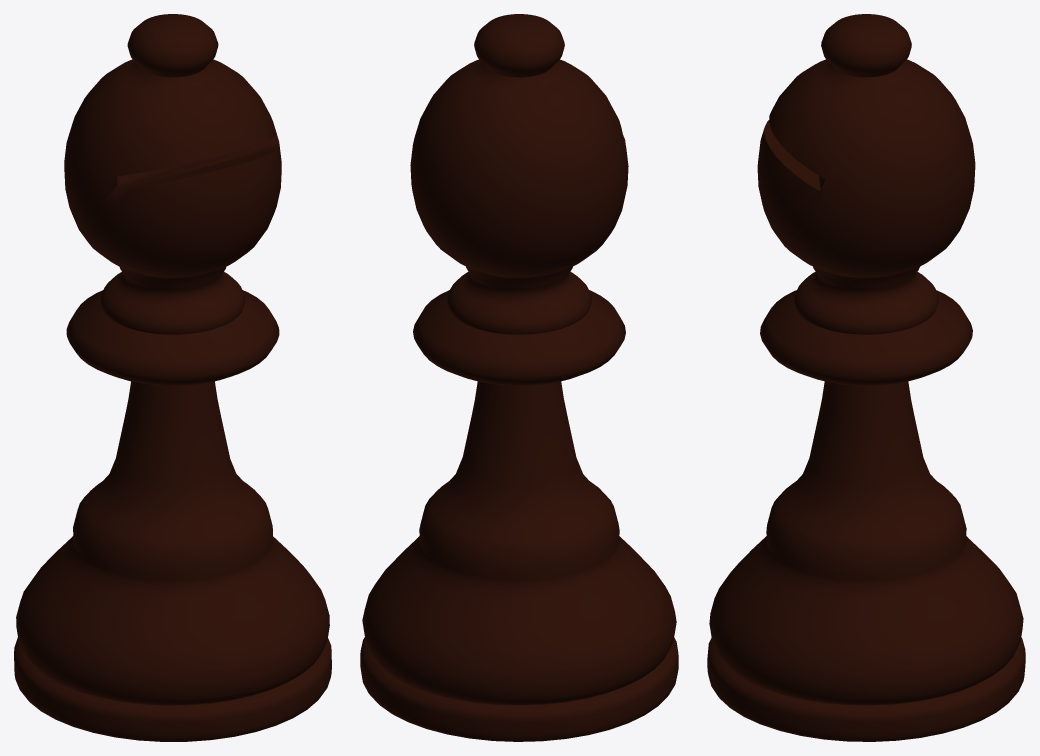
3 views of the same model, side by side, from view 1: azimuth 30°, elevation 25°; view 2: azimuth 150°, elevation 25°; view 3: azimuth 270°, elevation 25° (orthographic).
Parts seen in each view (by area): view 1: ALFIERE02; view 2: ALFIERE02; view 3: ALFIERE02.
Part boxes in pixels (x1,y1,x2,y2): ALFIERE02: [14, 14, 331, 741]; ALFIERE02: [360, 14, 678, 741]; ALFIERE02: [707, 14, 1025, 741].
Bounding box in the file's own units: 157 × 357 × 157.
